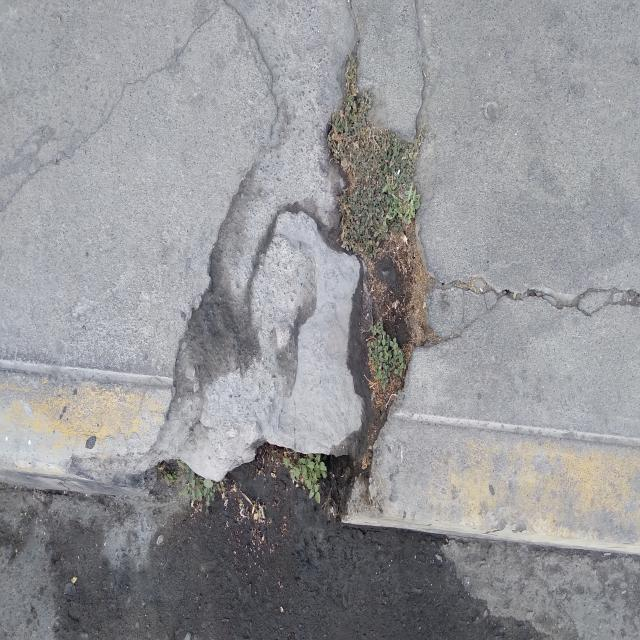hole: (167, 59, 436, 463)
